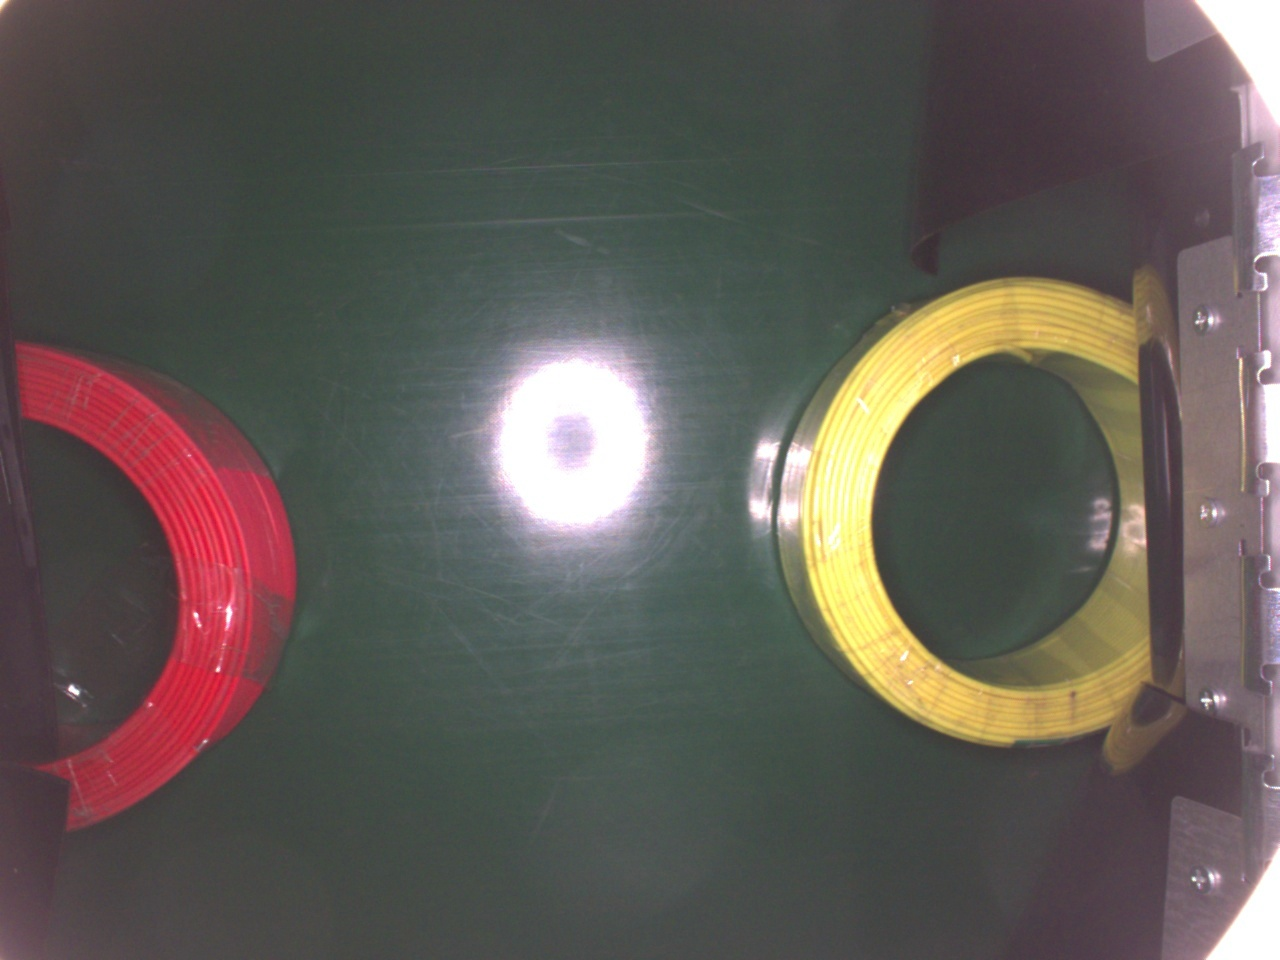red: (2, 328, 297, 839)
yellow: (771, 276, 1152, 746)
